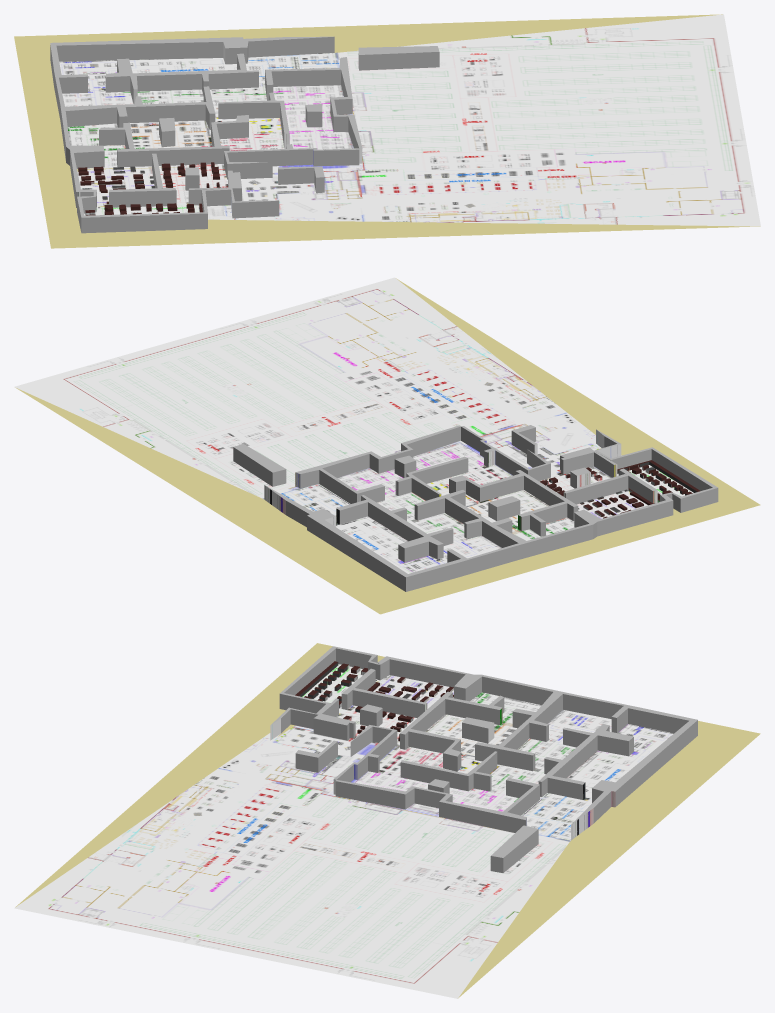
File: ikea.glb
3 renders of one model, top to bottom at view 1: azimuth 30°, elevation 25°; view 2: azimuth 150°, elevation 25°; view 3: azimuth 270°, elevation 25°, orthographic. The views are drawn at different scales.
Parts seen in each view (by area): view 1: ikea_vileesa; view 2: ikea_vileesa; view 3: ikea_vileesa.
Part boxes in pixels (box(x1,y1,x2,y2)): ikea_vileesa: box(14, 14, 760, 248); ikea_vileesa: box(14, 277, 760, 614); ikea_vileesa: box(14, 643, 760, 998).
Size of the model in its own units: 215 by 4.45 by 191.
5 materials, 1 textured.
